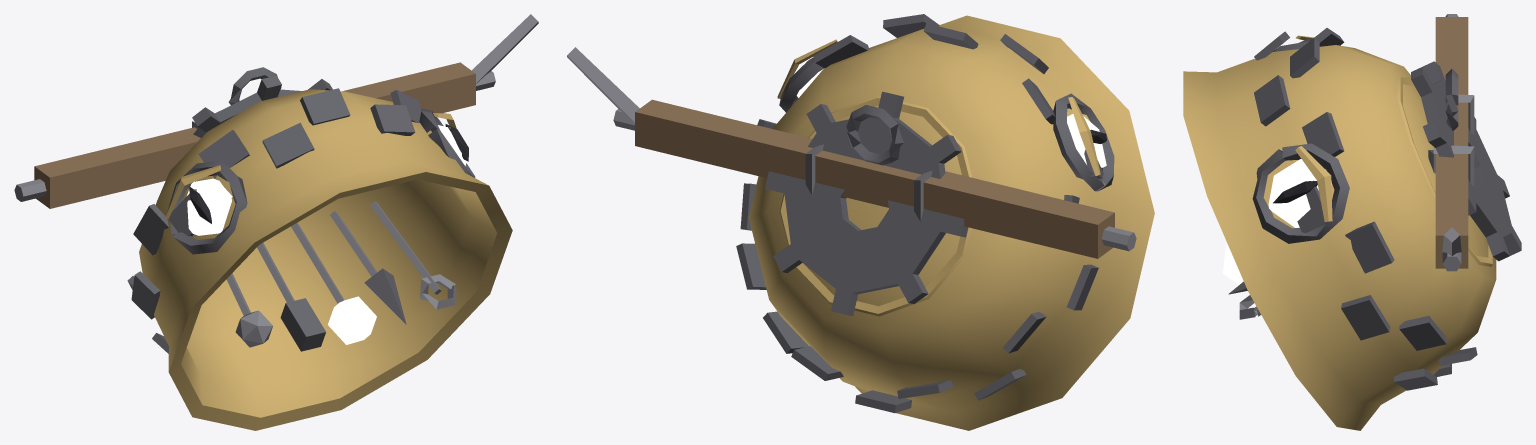
File: bell-name-bell.glb
3 renders of one model, left to right at view 1: azimuth 30°, elevation 25°; view 2: azimuth 150°, elevation 25°; view 3: azimuth 270°, elevation 25°, orthographic. The views are drawn at different scales.
Parts seen in each view (by area): view 1: bell_name_bell; view 2: bell_name_bell; view 3: bell_name_bell.
Boxes of the visible parts, bbox=[...] form: bell_name_bell: bbox=[14, 14, 538, 430]; bell_name_bell: bbox=[567, 14, 1154, 430]; bell_name_bell: bbox=[1183, 14, 1521, 430].
Bounding box in the file's own units: 1.16 × 0.7347 × 0.6227.
